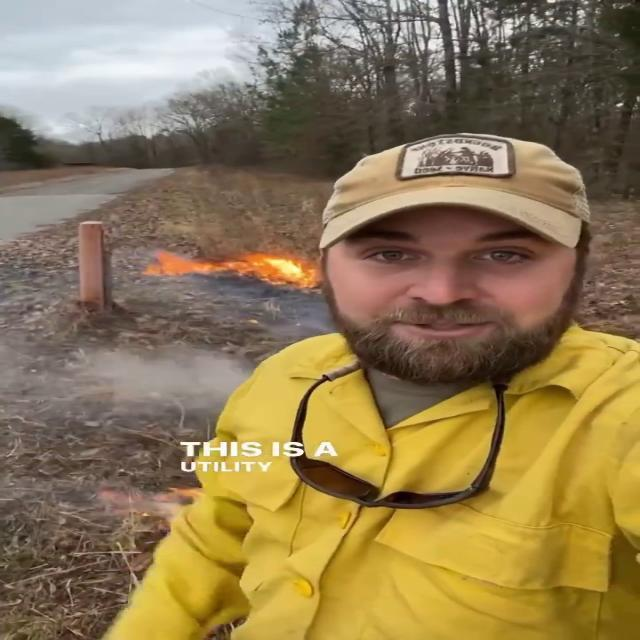Fire: (140, 240, 320, 288)
Smoke: (50, 335, 240, 414)
